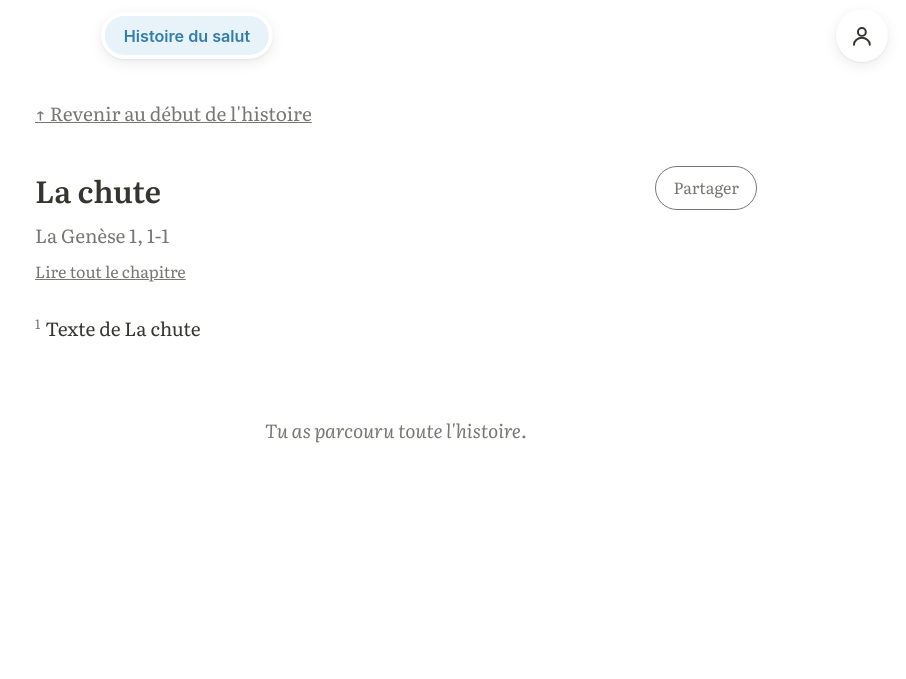
HistoryPage › le lien « Histoire du salut » de la barre ramène au début (sans recharger la page)
The image size is (906, 679).
Check: the heading "La chute" is shown, box [35,167,161,212]
Step 1. Click the link "Histoire du salut" → (187, 36), box [105,16,269,55]
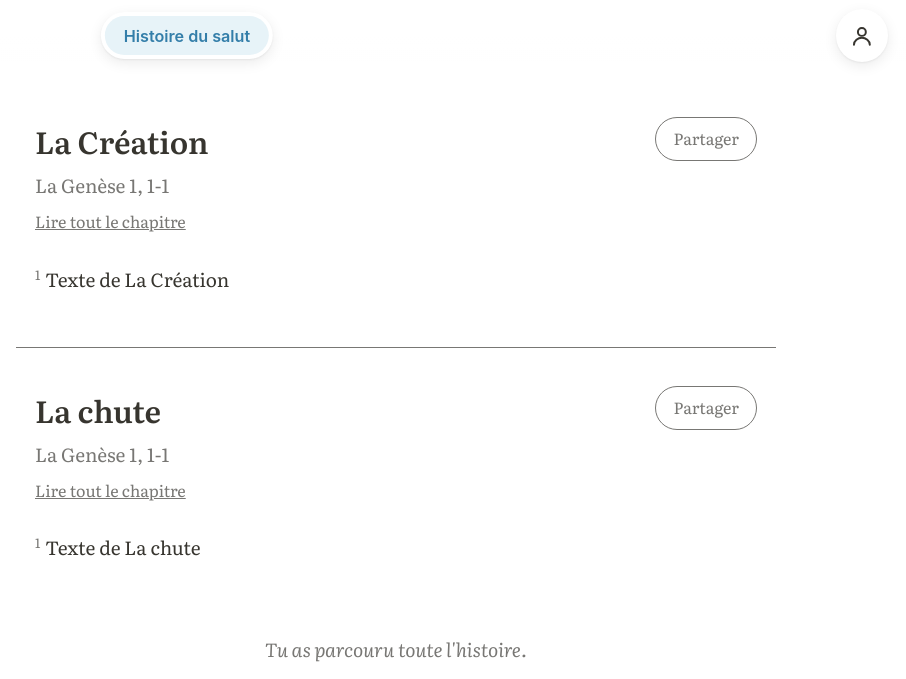
Check: the heading "La Création" is shown, box [35,117,208,165]
